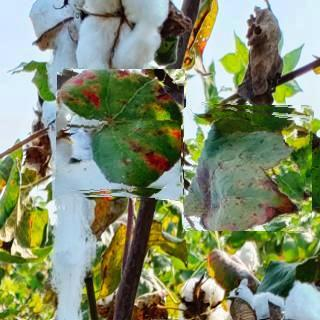blight: (56, 70, 185, 200), (184, 102, 312, 231)
